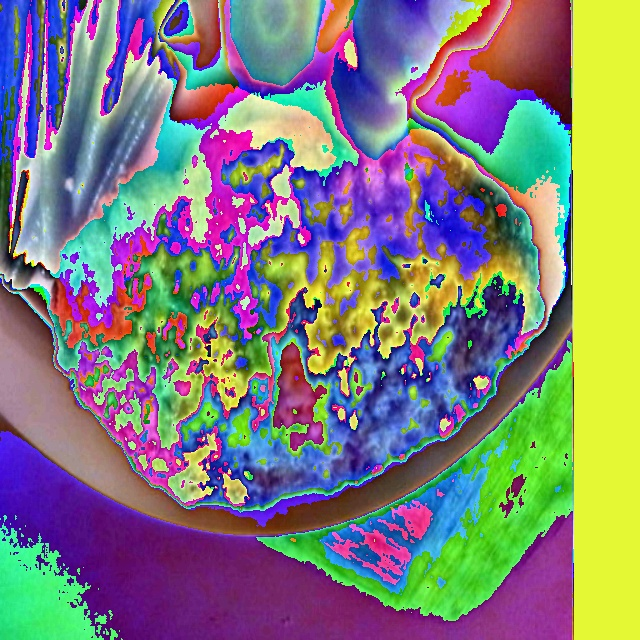background: (0, 0, 548, 512)
